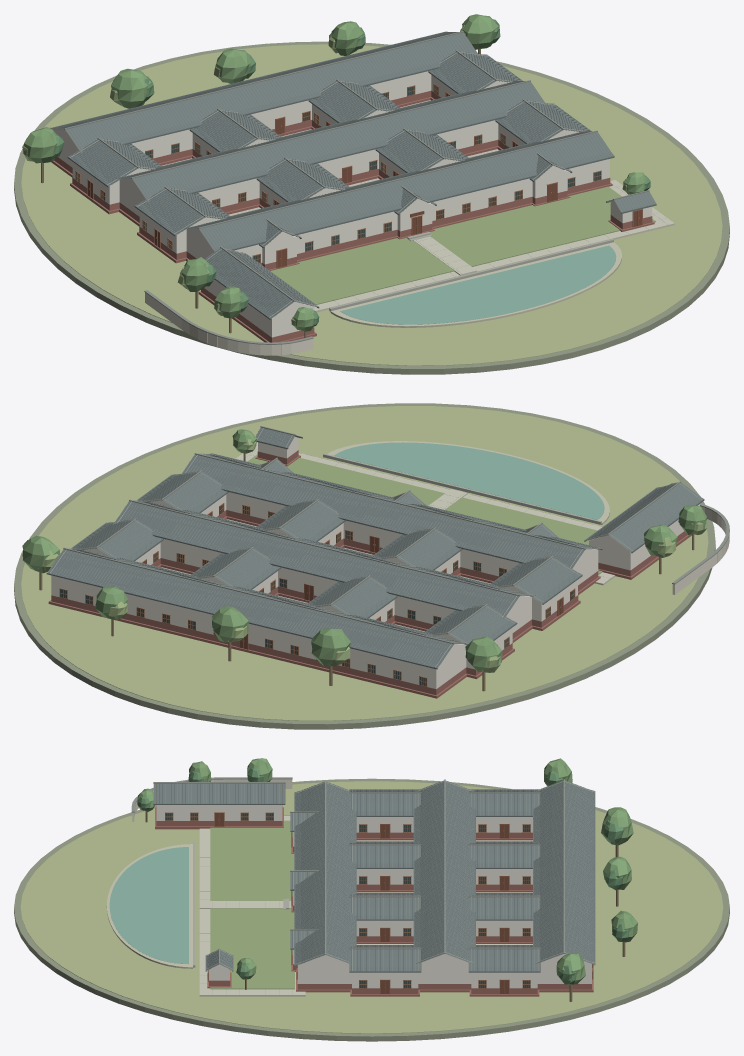
Rendered from baiyutang.glb.
The picture shows the model from 3 angles, top to bottom: view 1: azimuth 30°, elevation 25°; view 2: azimuth 150°, elevation 25°; view 3: azimuth 270°, elevation 25°; orthographic projection. The views are drawn at different scales.
Parts seen in each view (by area): view 1: roofs_roof, landscape_grasslight, roofs_tile, architecture_white, landscape_grass, landscape_earth, landscape_water, architecture_redbase, vegetation_leaf, roofs_ridge, landscape_paving, openings_woodlight (+8 smaller); view 2: landscape_grasslight, roofs_roof, roofs_tile, architecture_white, landscape_earth, landscape_water, architecture_redbase, vegetation_leaf, roofs_ridge, landscape_grass, landscape_paving, openings_woodlight (+6 smaller); view 3: roofs_roof, landscape_grasslight, roofs_tile, landscape_grass, architecture_white, landscape_earth, landscape_water, architecture_redbase, roofs_ridge, vegetation_leaf, landscape_paving, openings_woodlight (+4 smaller).
Boxes of the visible parts, bbox=[...] form: roofs_roof: bbox=[51, 31, 656, 319]; landscape_grasslight: bbox=[21, 44, 722, 365]; roofs_tile: bbox=[52, 31, 656, 318]; architecture_white: bbox=[53, 71, 652, 337]; landscape_grass: bbox=[270, 186, 655, 304]; landscape_earth: bbox=[14, 41, 729, 374]; landscape_water: bbox=[340, 245, 616, 324]; architecture_redbase: bbox=[51, 90, 654, 342]; vegetation_leaf: bbox=[23, 14, 645, 331]; roofs_ridge: bbox=[50, 31, 653, 317]; landscape_paving: bbox=[162, 100, 674, 312]; openings_woodlight: bbox=[75, 83, 642, 268]; landscape_grasslight: bbox=[21, 406, 708, 720]; roofs_roof: bbox=[46, 427, 704, 669]; roofs_tile: bbox=[47, 427, 703, 667]; architecture_white: bbox=[51, 436, 699, 689]; landscape_earth: bbox=[14, 403, 715, 729]; landscape_water: bbox=[334, 442, 604, 519]; architecture_redbase: bbox=[48, 450, 691, 698]; vegetation_leaf: bbox=[23, 429, 706, 671]; roofs_ridge: bbox=[49, 426, 702, 667]; landscape_grass: bbox=[247, 454, 602, 574]; landscape_paving: bbox=[161, 442, 615, 631]; openings_woodlight: bbox=[59, 503, 575, 687]; roofs_roof: bbox=[153, 781, 595, 972]; landscape_grasslight: bbox=[20, 781, 723, 1033]; roofs_tile: bbox=[153, 780, 594, 970]; landscape_grass: bbox=[210, 820, 294, 989]; architecture_white: bbox=[156, 805, 591, 988]; landscape_earth: bbox=[14, 778, 729, 1041]; landscape_water: bbox=[109, 847, 188, 963]; architecture_redbase: bbox=[155, 805, 593, 996]; roofs_ridge: bbox=[153, 779, 594, 971]; vegetation_leaf: bbox=[137, 758, 637, 985]; landscape_paving: bbox=[199, 816, 532, 996]; openings_woodlight: bbox=[165, 812, 593, 994].
Bounding box in the file's own units: 92.01 × 9.65 × 108.
